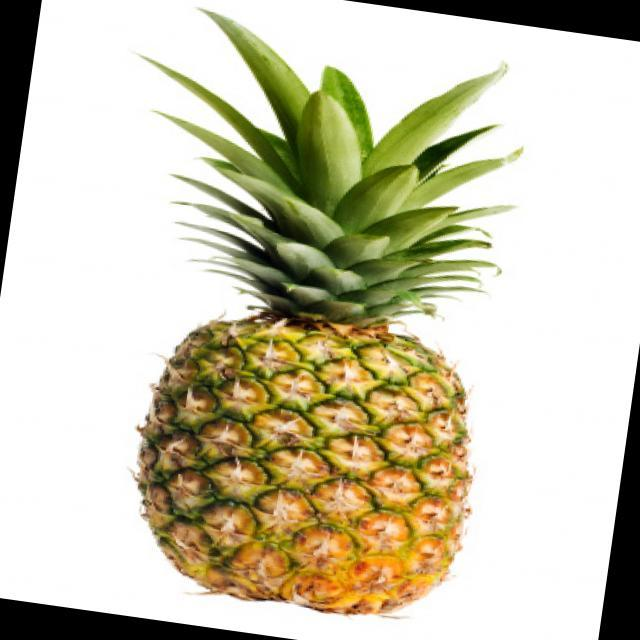PINEAPLE: (125, 19, 524, 632)
